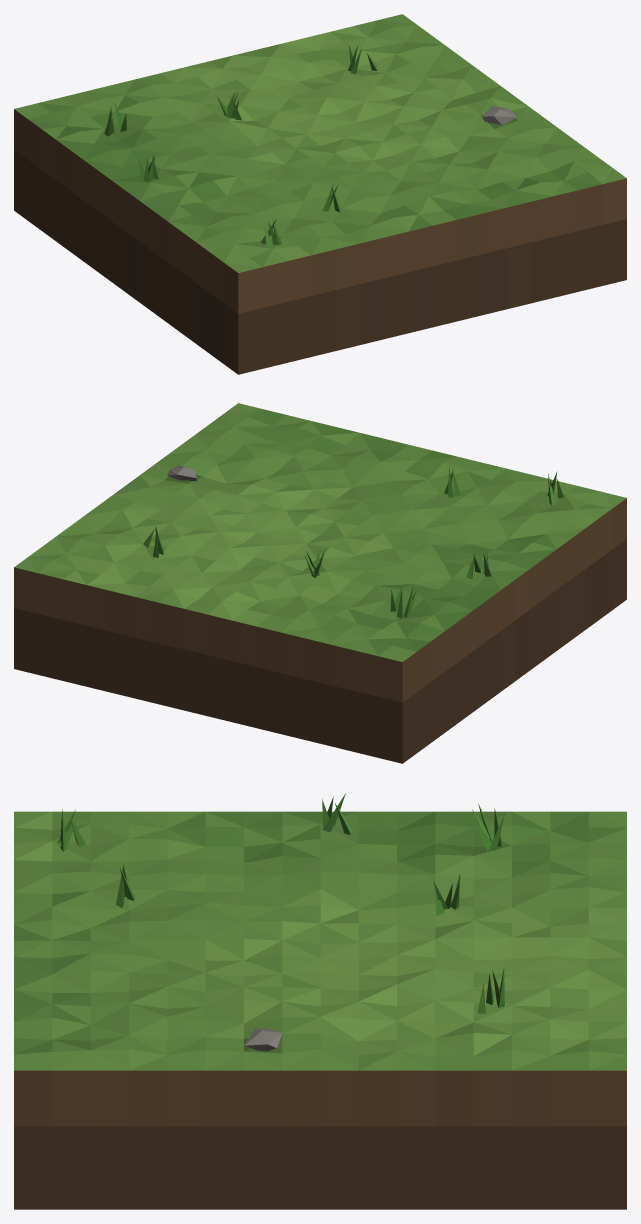
The model's file is grass_1.glb.
The picture shows the model from 3 angles, top to bottom: view 1: azimuth 30°, elevation 25°; view 2: azimuth 150°, elevation 25°; view 3: azimuth 270°, elevation 25°; orthographic projection. The views are drawn at different scales.
Parts seen in each view (by area): view 1: Grass1; view 2: Grass1; view 3: Grass1.
Boxes of the visible parts, bbox=[...] form: Grass1: bbox=[14, 14, 626, 374]; Grass1: bbox=[14, 403, 626, 763]; Grass1: bbox=[14, 793, 626, 1209].
Bounding box in the file's own units: 2 × 0.6405 × 2.
